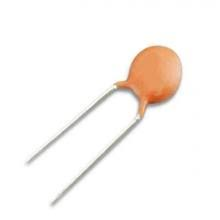ceramic capacitor: (76, 17, 214, 158)
